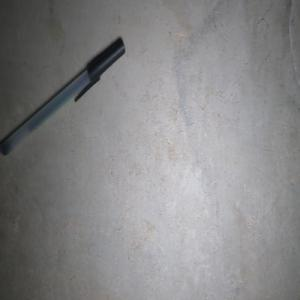Pen: (0, 37, 124, 156)
